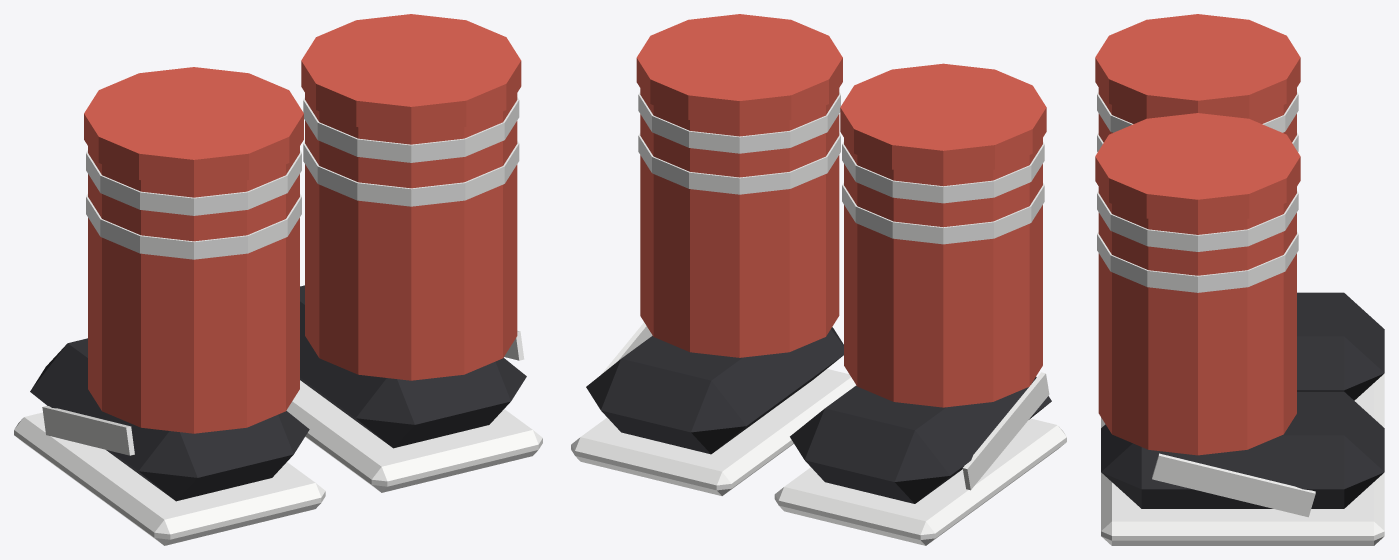
File: shoes_bootsy.glb
3 views of the same model, side by side, from view 1: azimuth 30°, elevation 25°; view 2: azimuth 150°, elevation 25°; view 3: azimuth 270°, elevation 25° (orthographic). The views are drawn at different scales.
Parts seen in each view (by area): view 1: LegL, LegR; view 2: LegL, LegR; view 3: LegR, LegL.
Part boxes in pixels (left/top/right/bottom): LegL: left=14, top=67, right=325, bottom=545; LegR: left=286, top=14, right=542, bottom=492; LegL: left=774, top=63, right=1066, bottom=545; LegR: left=571, top=14, right=856, bottom=495; LegR: left=1095, top=113, right=1384, bottom=545; LegL: left=1095, top=14, right=1384, bottom=427.
Bounding box in the file's own units: 0.488 × 0.435 × 0.3215.
